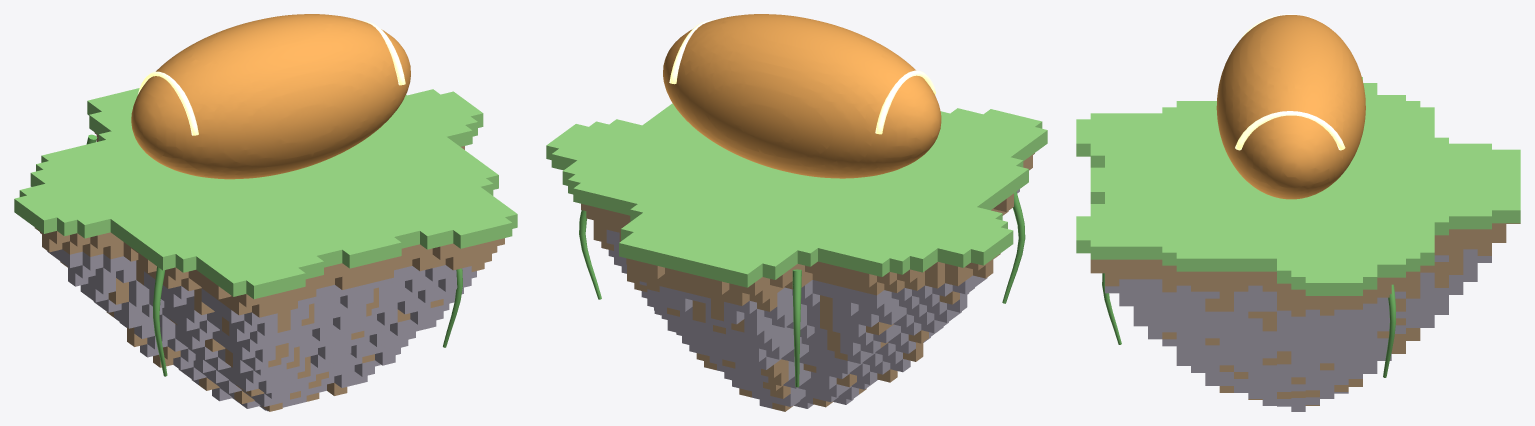
The model's file is E08_Mitochondria_Island.glb.
The picture shows the model from 3 angles, left to right: view 1: azimuth 30°, elevation 25°; view 2: azimuth 150°, elevation 25°; view 3: azimuth 270°, elevation 25°; orthographic projection. The views are drawn at different scales.
Visible parts, largest first — view 1: E08_Mitochondria_Island_Mesh; view 2: E08_Mitochondria_Island_Mesh; view 3: E08_Mitochondria_Island_Mesh.
Boxes of the visible parts, box(x1,y1,x2,y2) form: E08_Mitochondria_Island_Mesh: box(14, 14, 517, 411); E08_Mitochondria_Island_Mesh: box(546, 14, 1047, 411); E08_Mitochondria_Island_Mesh: box(1076, 14, 1520, 411).
Bounding box in the file's own units: 8.5 × 6.95 × 7.75.
